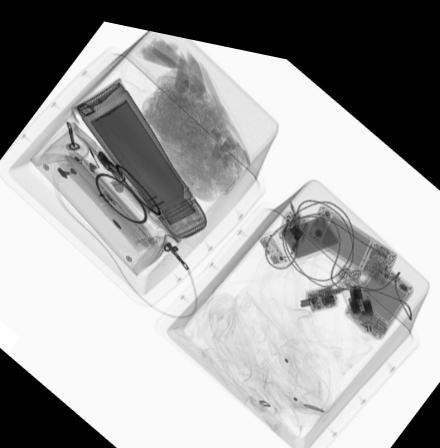Powerbank: (254, 199, 343, 258)
